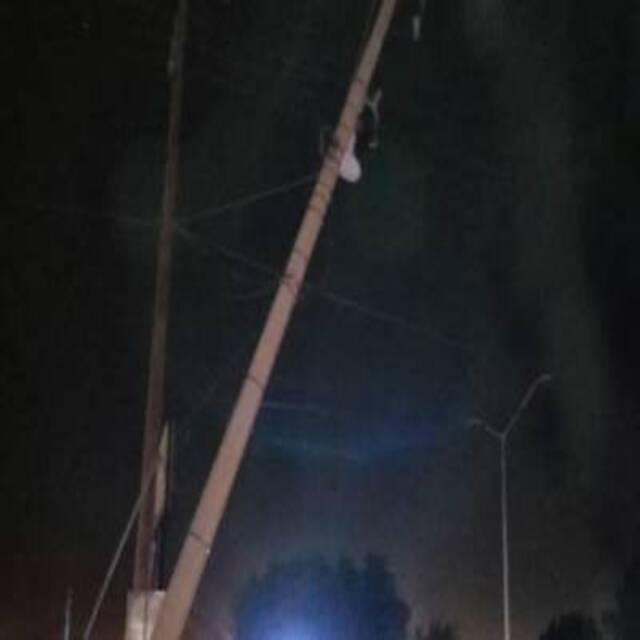Inclined Pole: (150, 0, 399, 640)
